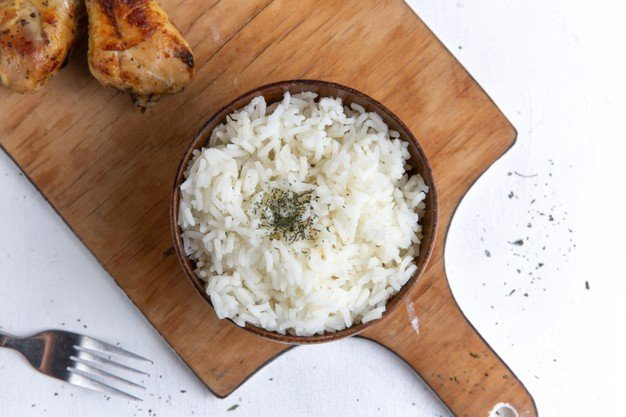Nasi Putih: (146, 99, 479, 339)
